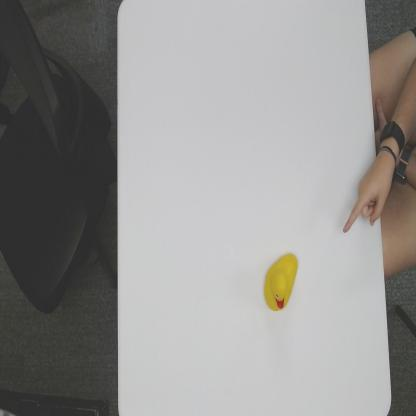Duck: (264, 249, 300, 316)
Hand: (341, 151, 393, 239)
